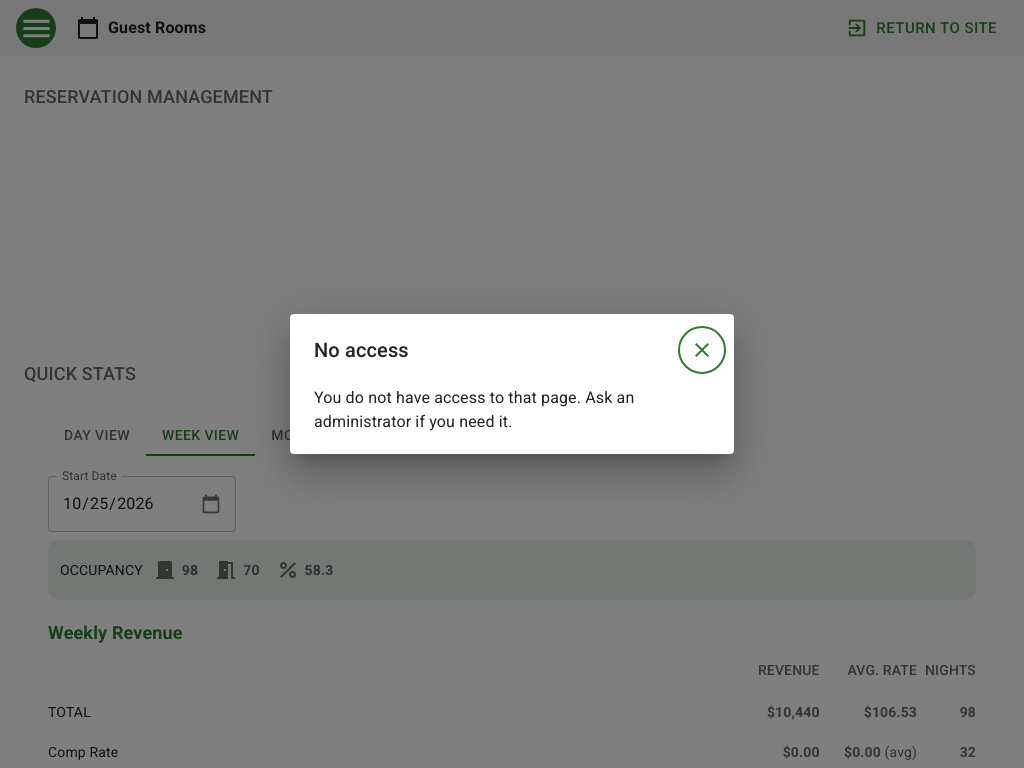
it: route guard › redirects a non-admin from /admin to the dashboard with a dismissible message
Expected: the dialog "No access" shows "You do not have access to that page.", 314,388 -> 634,431
Click the button named "Close" at (702, 350), box 682,330 -> 722,370
(page scrolled)
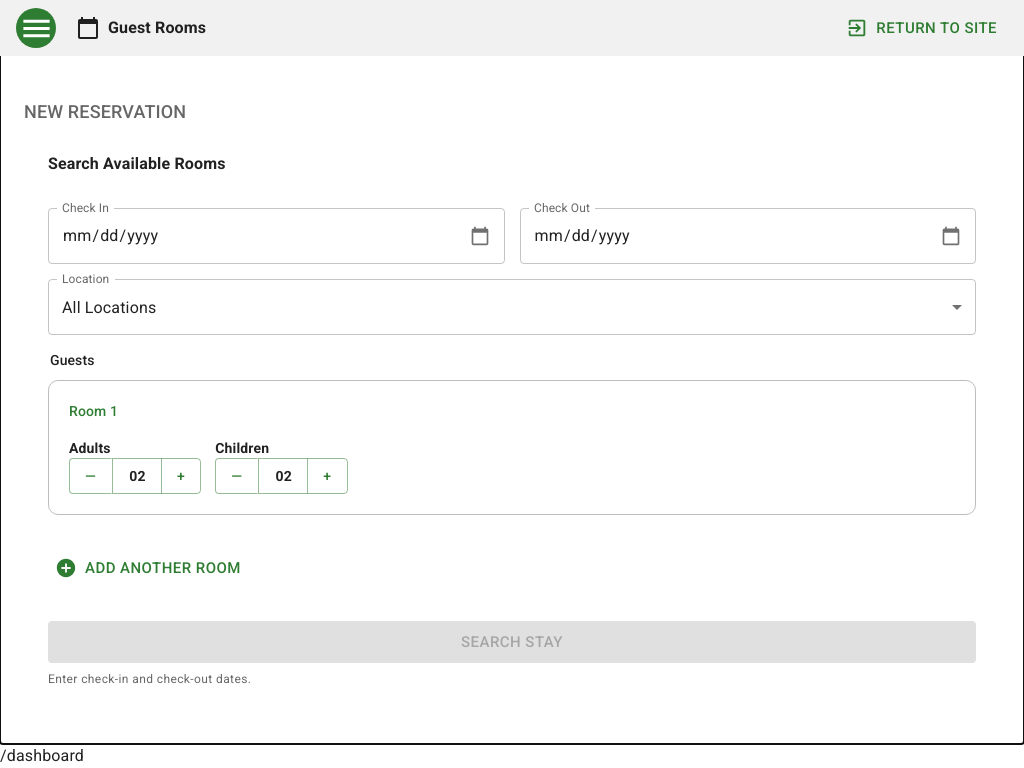
Expected: the text with test id "where" reads "/dashboard", 0,746 -> 84,765
Now the dialog is gone
